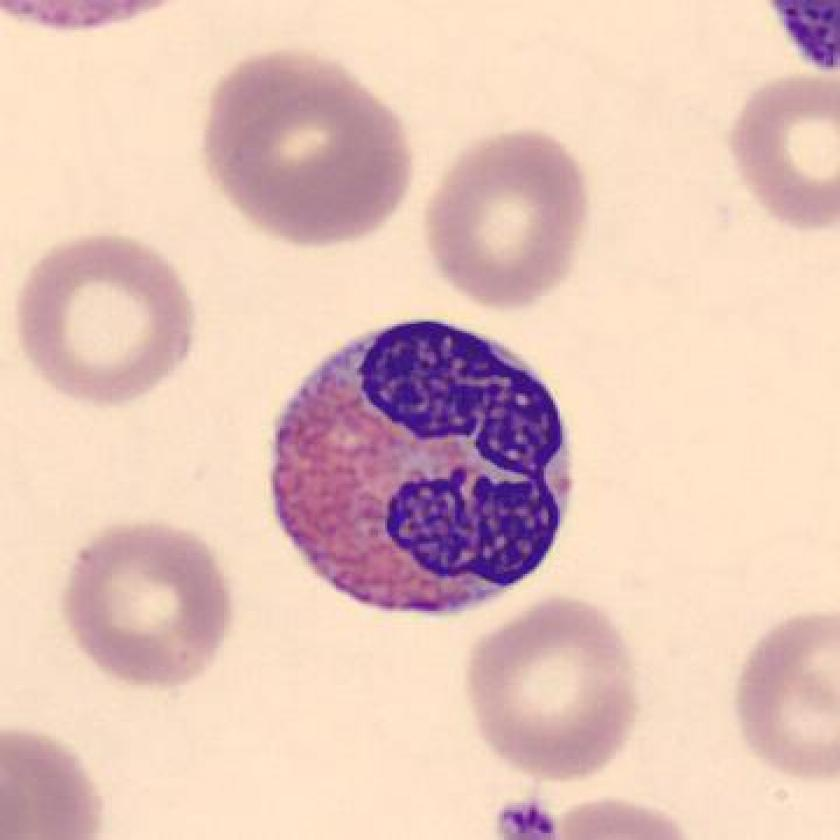eosinophil: (253, 304, 591, 633)
